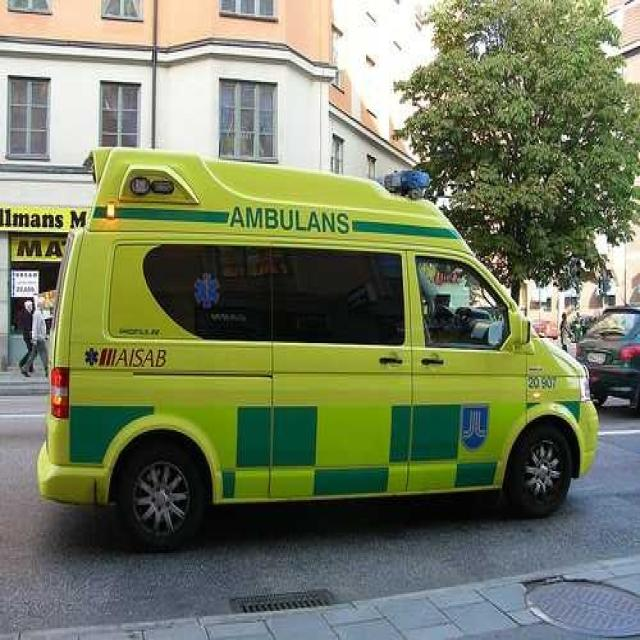ambulance: (42, 139, 604, 543)
